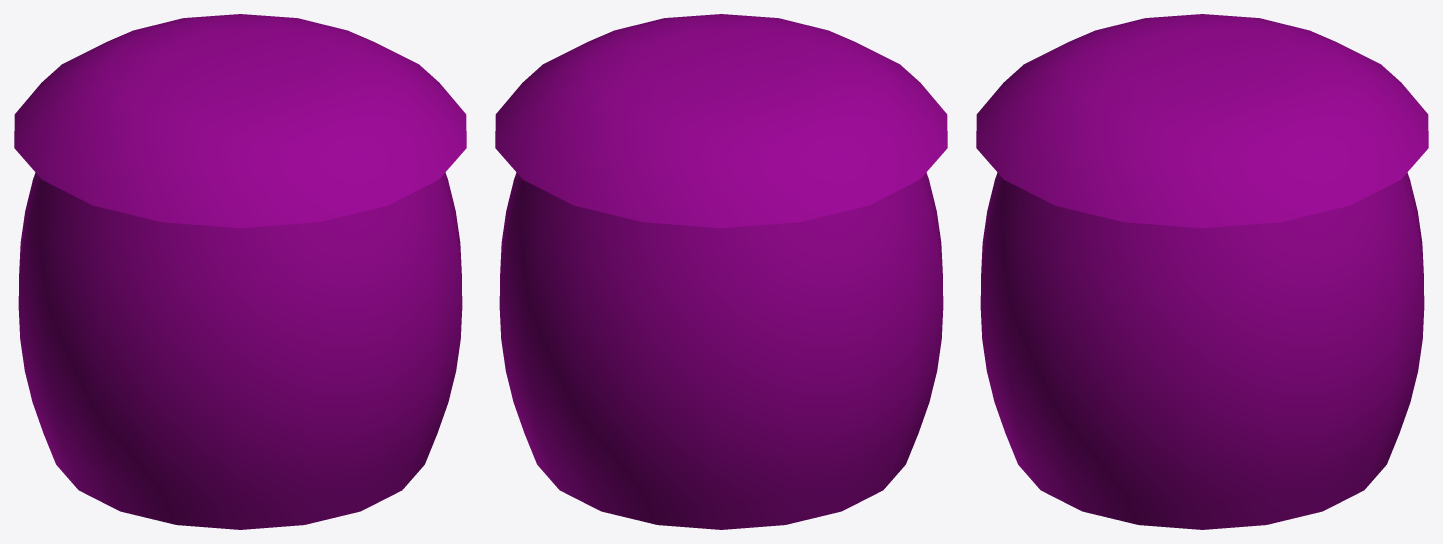
File: Salt.FBX
The picture shows the model from 3 angles, left to right: view 1: azimuth 30°, elevation 25°; view 2: azimuth 150°, elevation 25°; view 3: azimuth 270°, elevation 25°; orthographic projection.
Visible parts, largest first — view 1: PRP_Salt_HR_1; view 2: PRP_Salt_HR_1; view 3: PRP_Salt_HR_1.
Boxes of the visible parts, <box> form: PRP_Salt_HR_1: <box>14,14,466,529</box>; PRP_Salt_HR_1: <box>495,14,947,529</box>; PRP_Salt_HR_1: <box>976,14,1428,529</box>.
Size of the model in its own units: 13.94 by 13.06 by 13.74.
